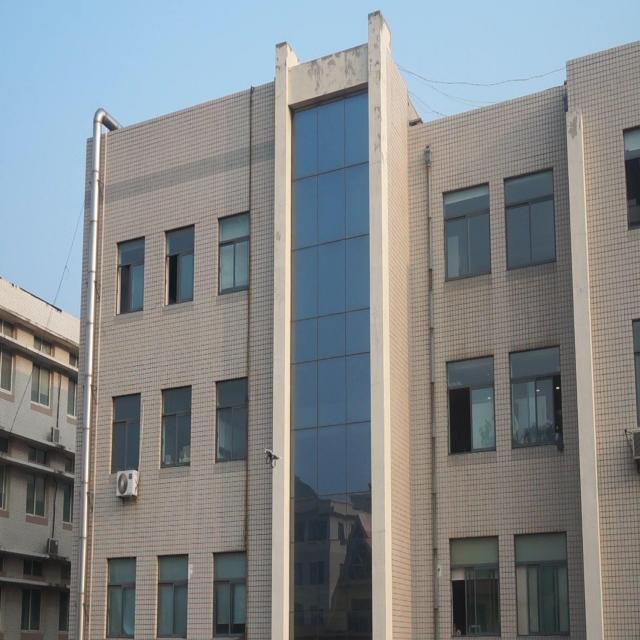UAV: (266, 449, 282, 468)
